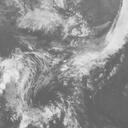cyclone: (34, 41, 94, 93)
